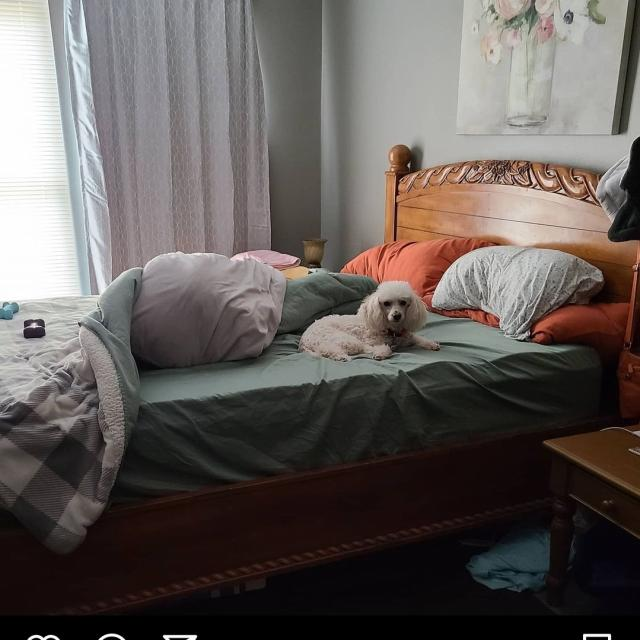bed: (0, 166, 632, 518)
